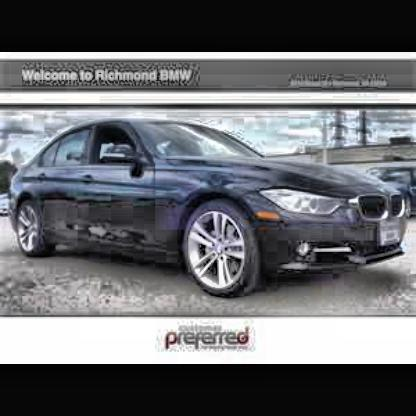BMW 3 Series Sedan 2012: (11, 120, 408, 301)
